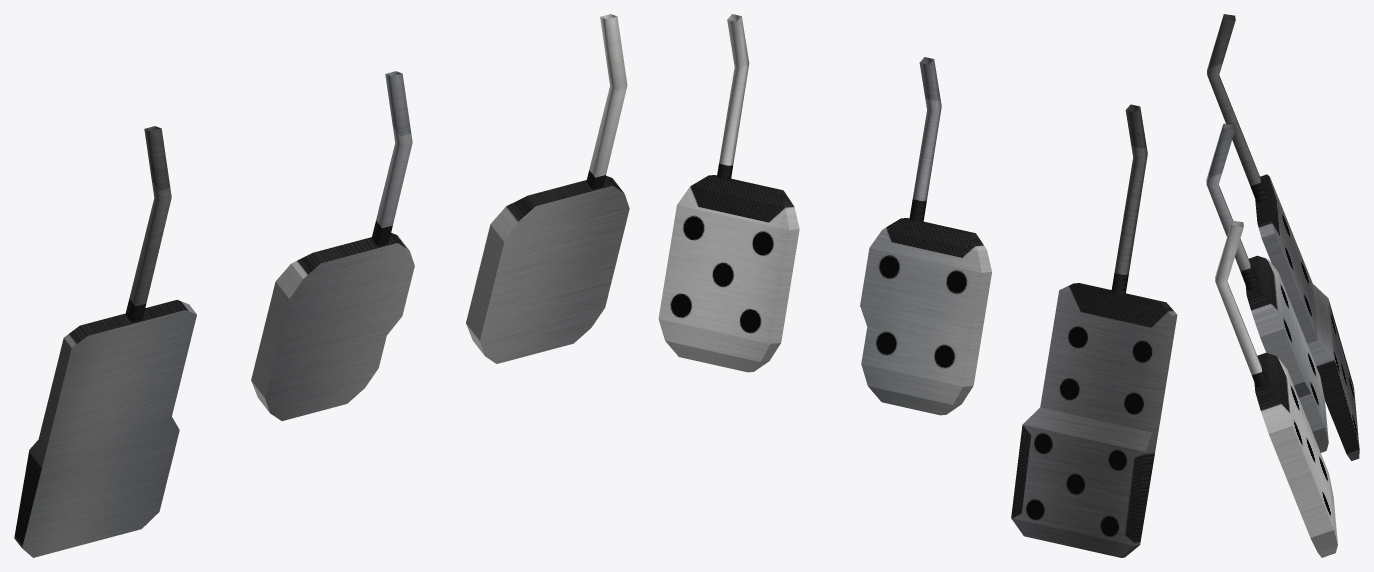
File: footpedal.obj
3 renders of one model, left to right at view 1: azimuth 30°, elevation 25°; view 2: azimuth 150°, elevation 25°; view 3: azimuth 270°, elevation 25°, orthographic. The views are drawn at different scales.
Parts seen in each view (by area): view 1: FootPedal1; view 2: FootPedal1; view 3: FootPedal1.
Part boxes in pixels (<box>): FootPedal1: <box>14,14,629,557</box>; FootPedal1: <box>658,14,1177,557</box>; FootPedal1: <box>1206,14,1359,557</box>.
Size of the model in its own units: 1.43 by 1.12 by 0.3695.
1 material, 1 textured.
